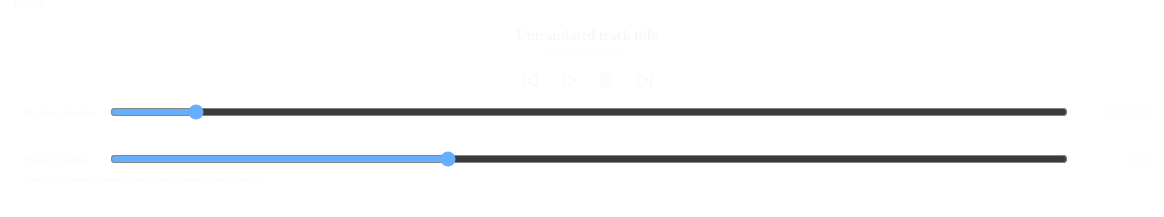
Test: MediaPage › keeps the confirmed snapshot and restores slider drafts after a rejected control
Set the slider labelled "Playback progress" to "80" at [746, 112], box top-left (110, 104), bottom-right (1068, 120)
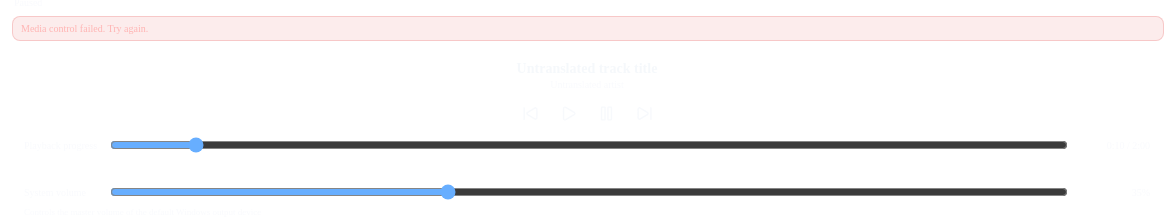
expect the slider labelled "Playback progress" holds "10": met, box top-left (110, 137), bottom-right (1068, 153)
expect the text "Media control failed. Try again." is shown: met, box top-left (12, 16), bottom-right (1163, 41)
